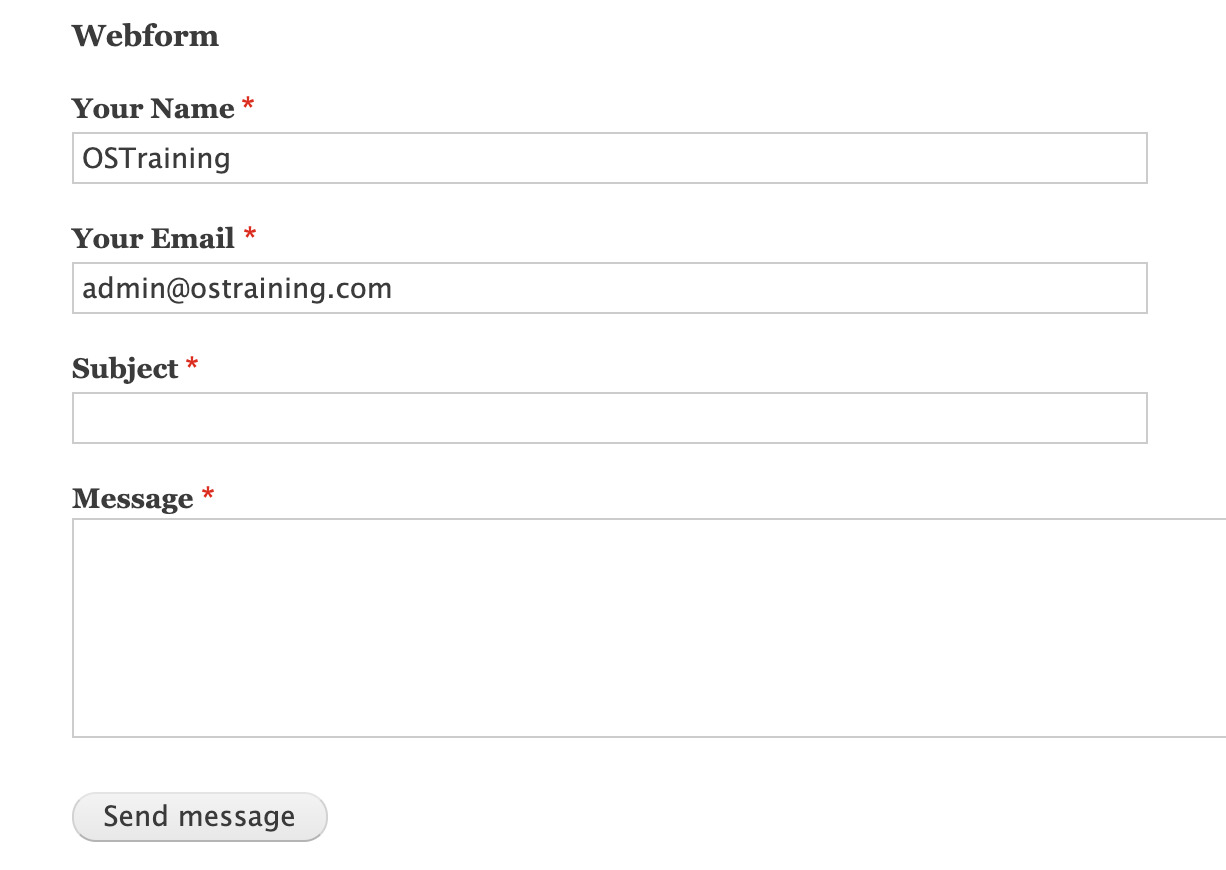_form_: (58, 481, 1226, 852), (59, 83, 1165, 452)
button: (70, 790, 332, 845)
field: (70, 514, 1226, 741), (69, 260, 1150, 318), (68, 129, 1154, 185), (69, 392, 1152, 445)
field_with_label: (67, 485, 1226, 744), (66, 225, 1156, 322), (64, 92, 1158, 187), (67, 353, 1157, 447)
